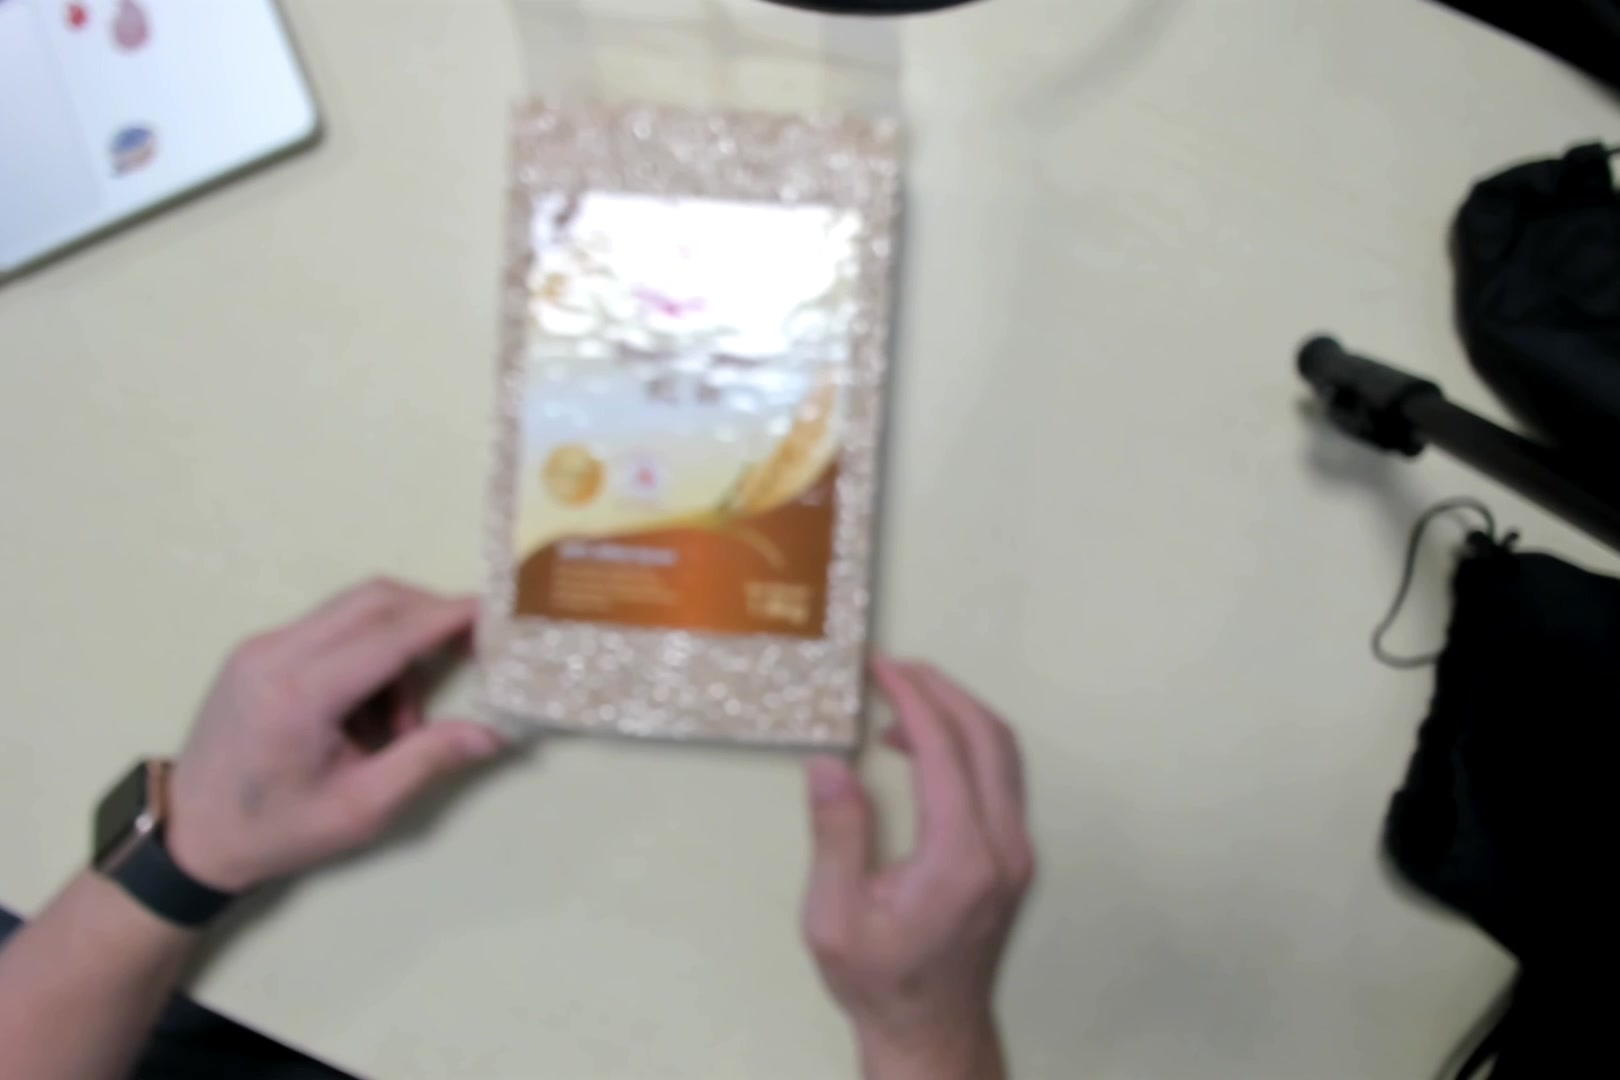Rice(BrownOthers)_1000-1999g_NonHalal_Healthy: (482, 7, 890, 764)
